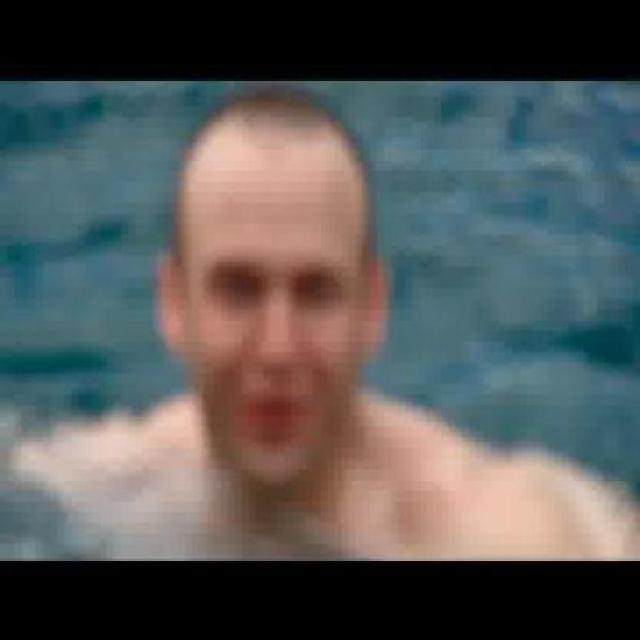Out of Water: (136, 83, 453, 542)
